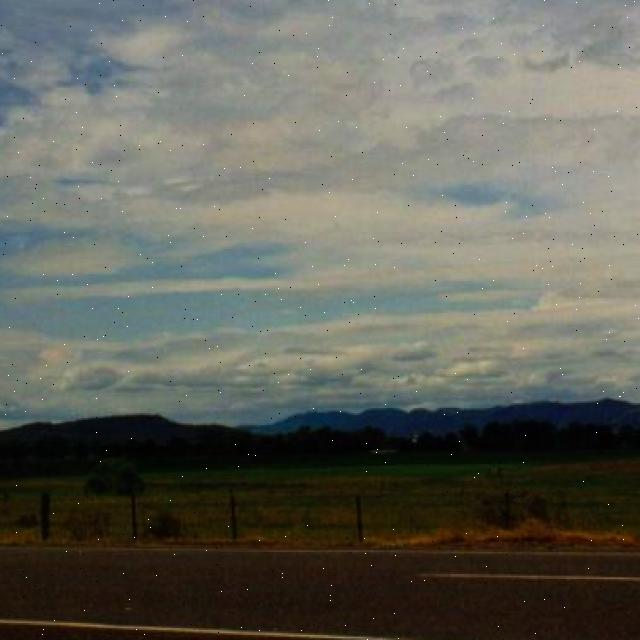Cs: (1, 7, 640, 379)
